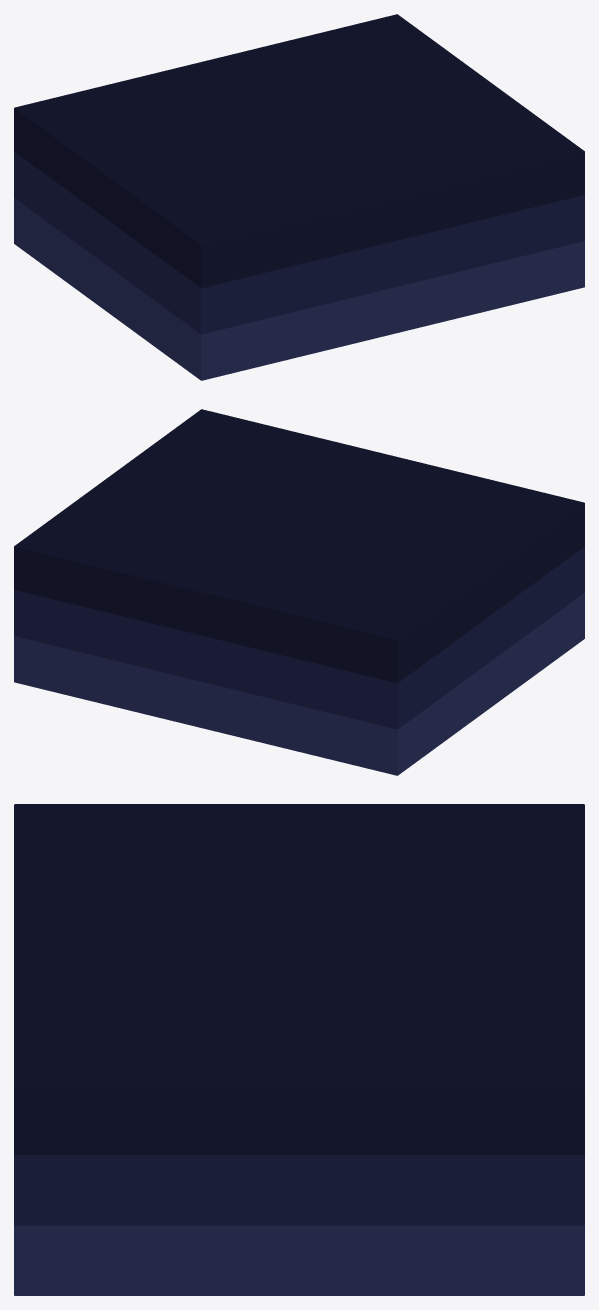
The model's file is sky.glb.
3 views of the same model, one above another, from view 1: azimuth 30°, elevation 25°; view 2: azimuth 150°, elevation 25°; view 3: azimuth 270°, elevation 25° (orthographic). The views are drawn at different scales.
Parts seen in each view (by area): view 1: sky; view 2: sky; view 3: sky.
Part boxes in pixels (box(x1,y1,x2,y2)): sky: box(14, 14, 584, 380); sky: box(14, 409, 584, 775); sky: box(14, 804, 584, 1295).
Bounding box in the file's own units: 260 × 88.25 × 220.
